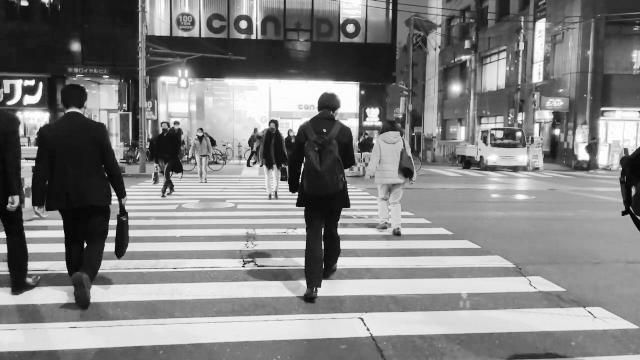berjalan: (34, 72, 130, 312), (286, 85, 352, 303), (364, 116, 414, 240)
